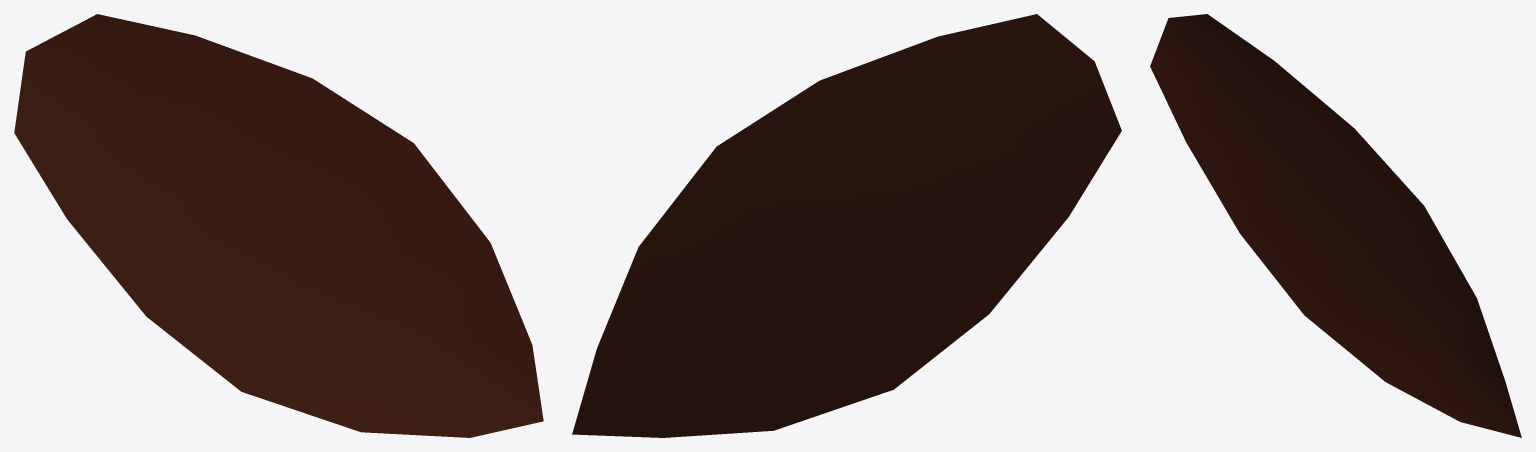
Rendered from hen_feather_flight_tertiary_059.obj.
3 views of the same model, side by side, from view 1: azimuth 30°, elevation 25°; view 2: azimuth 150°, elevation 25°; view 3: azimuth 330°, elevation 25° (orthographic). The views are drawn at different scales.
Parts seen in each view (by area): view 1: feather_flight_tertiary_059; view 2: feather_flight_tertiary_059; view 3: feather_flight_tertiary_059.
Part boxes in pixels (x1=…): feather_flight_tertiary_059: x1=14, y1=14, x2=543, y2=437; feather_flight_tertiary_059: x1=572, y1=14, x2=1121, y2=437; feather_flight_tertiary_059: x1=1150, y1=14, x2=1521, y2=437.
Size of the model in its own units: 0.0218 by 0.0202 by 0.000816.
